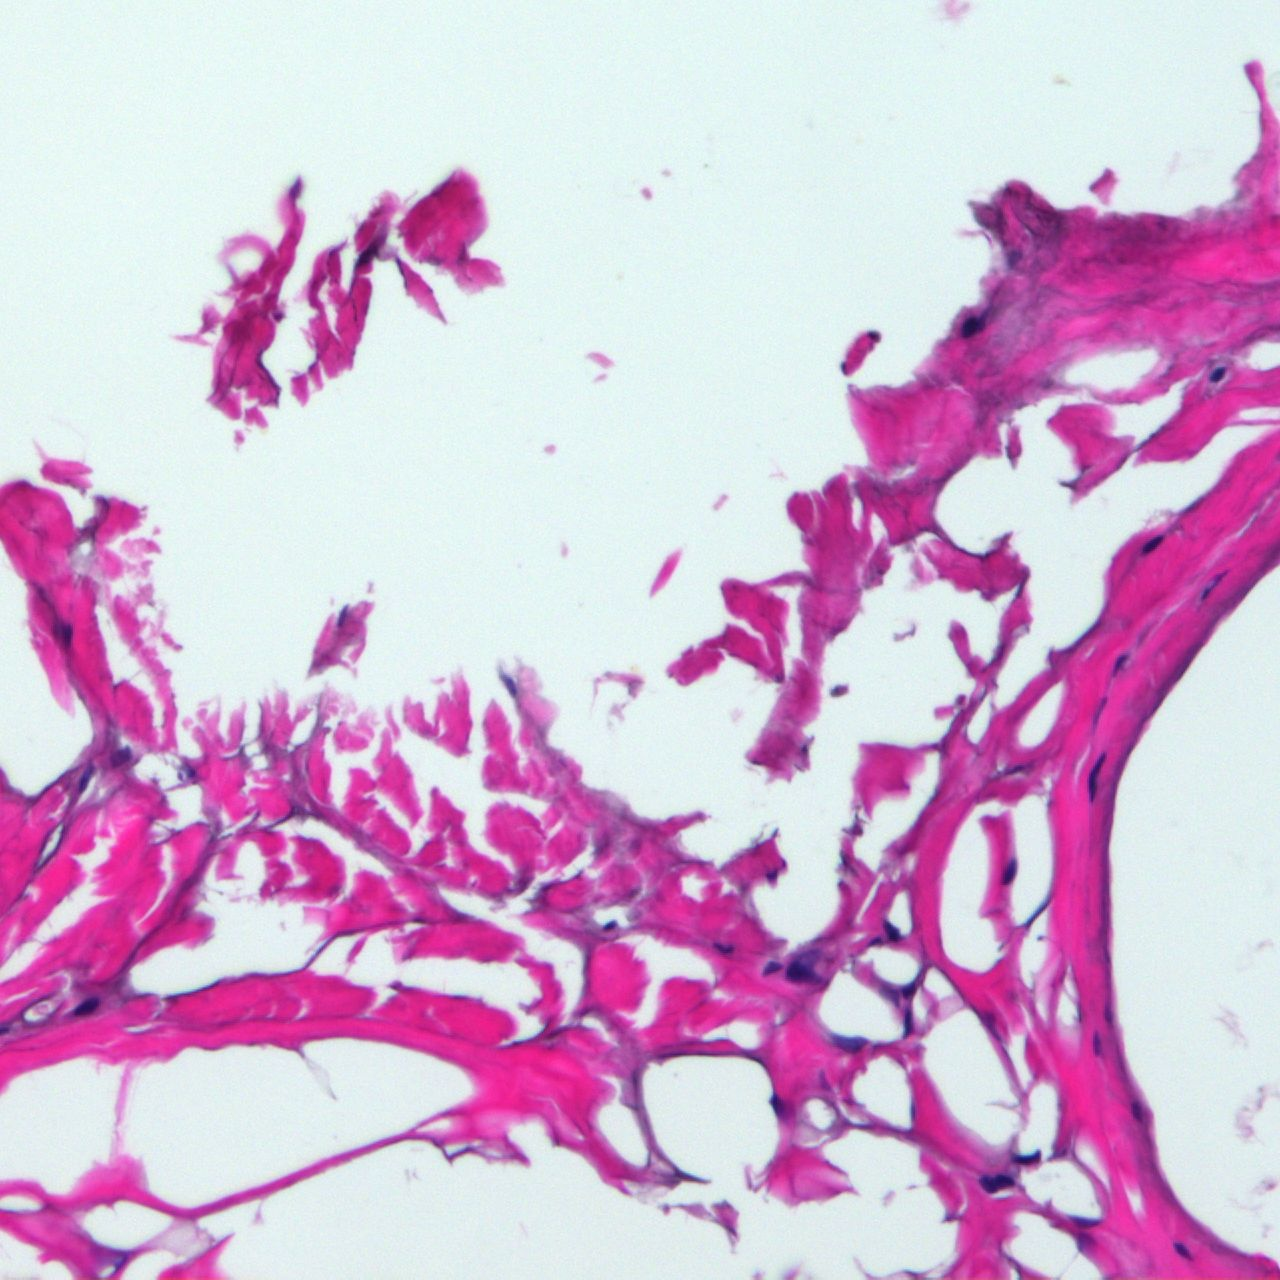dust: (1051, 74, 1069, 86)
nucleus-HE: (1088, 753, 1107, 801), (783, 959, 817, 985), (956, 312, 986, 341), (72, 993, 102, 1020), (979, 1175, 1014, 1194), (877, 918, 903, 942), (1000, 856, 1020, 887), (765, 1091, 788, 1118), (1139, 532, 1164, 556), (833, 1036, 865, 1050), (1207, 363, 1228, 384), (1110, 652, 1129, 675), (760, 958, 781, 978), (1172, 1240, 1190, 1260), (903, 1010, 912, 1035), (716, 942, 734, 954), (1092, 1033, 1101, 1055), (1131, 1102, 1141, 1119), (604, 919, 617, 931), (64, 627, 72, 644)
